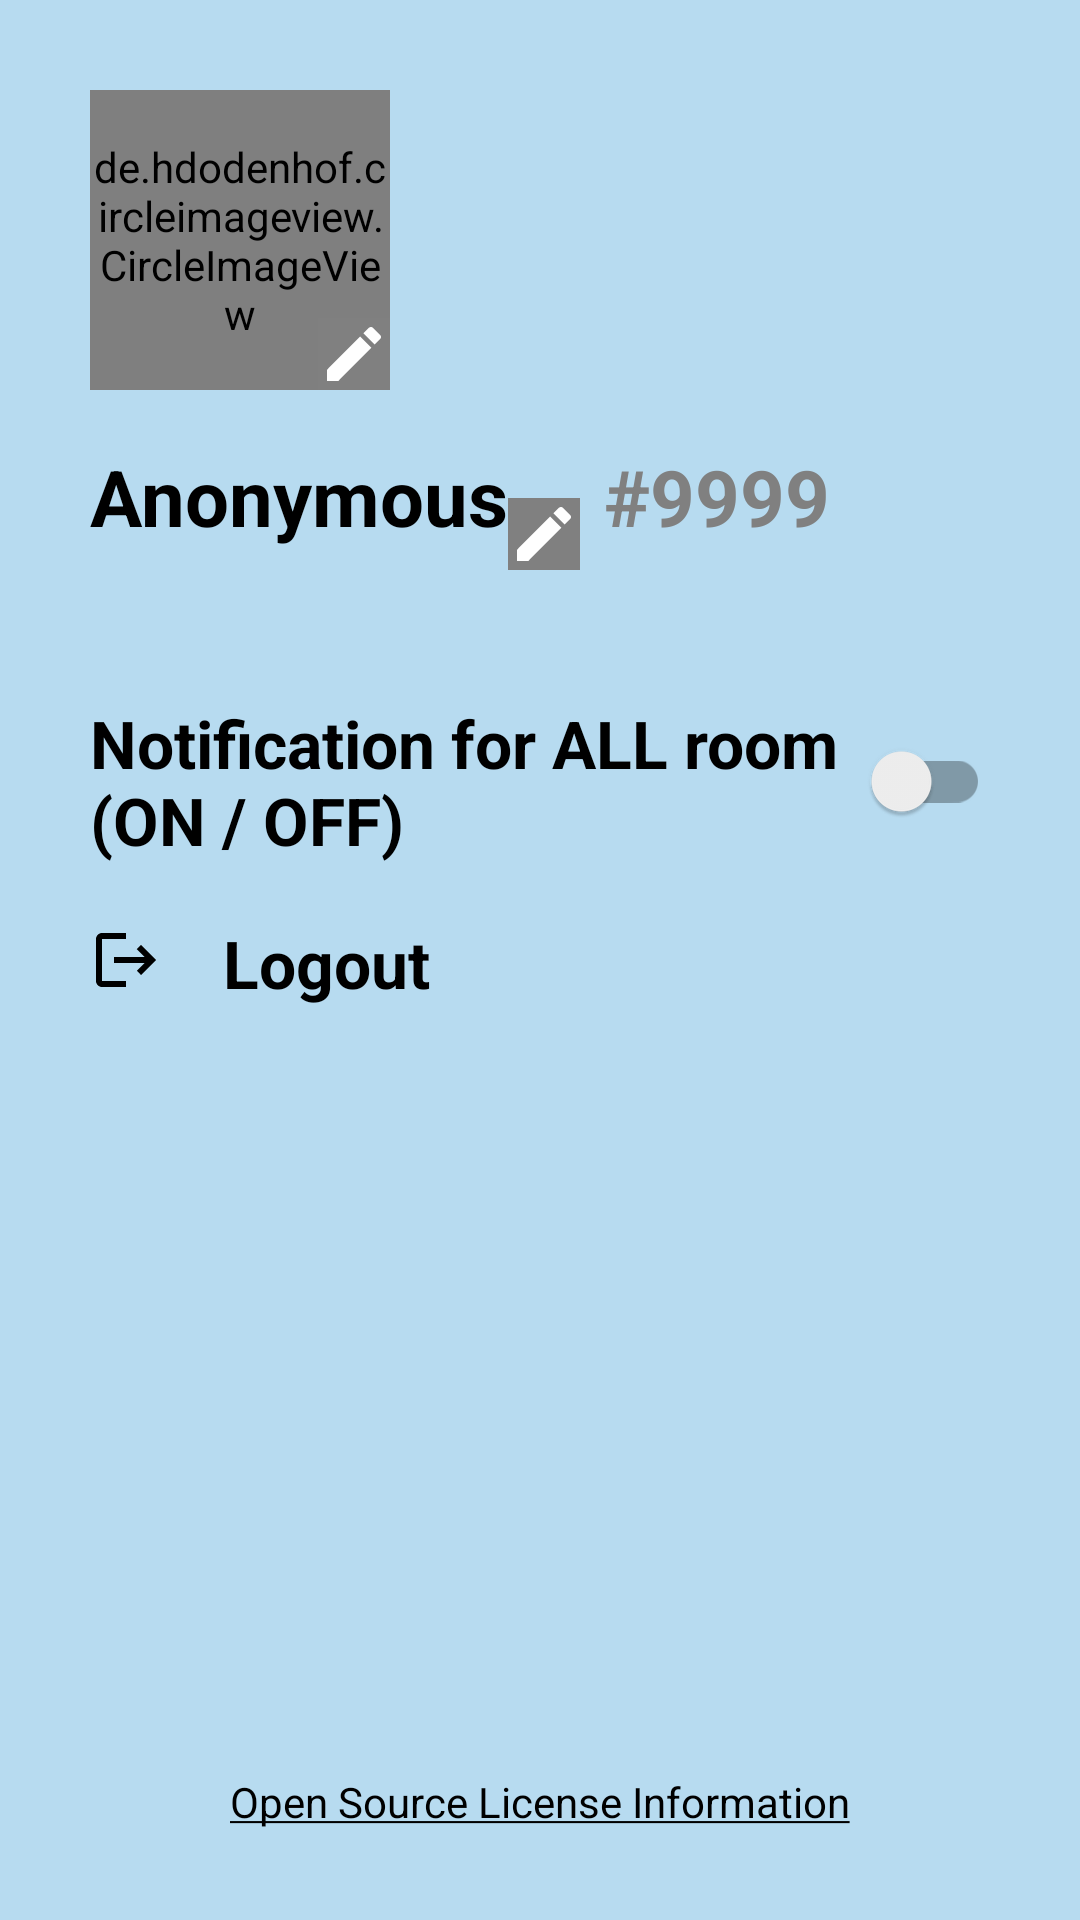

Point at icon controls on the screen. Image size 1080x1920, points as [x,y].
edit: [354,354], [544,534]
